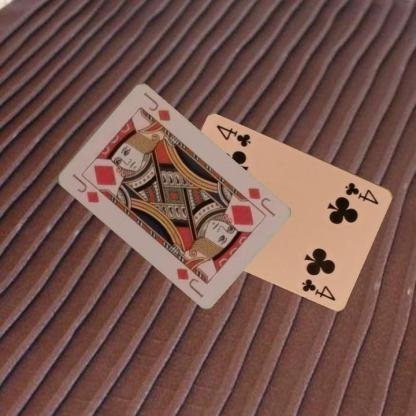4c: (342, 180, 380, 206)
Jd: (68, 170, 102, 206), (243, 184, 277, 218)
